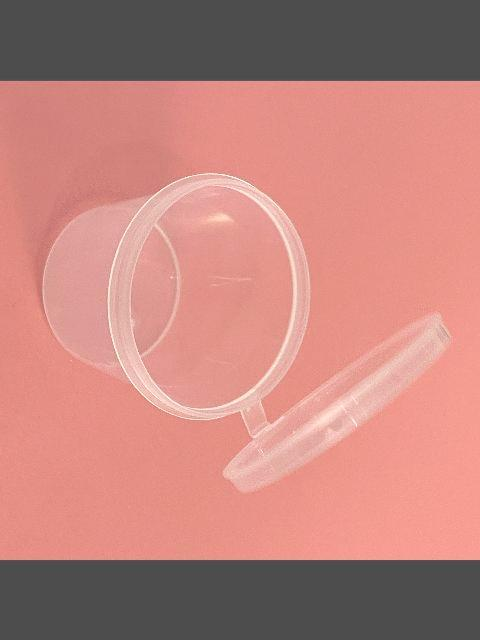plasticcontainer: (36, 169, 456, 495)
